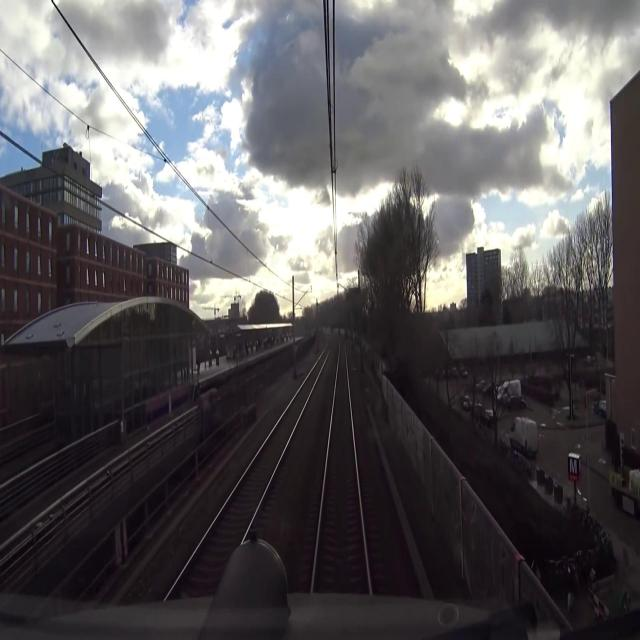rail-track: (170, 342, 330, 597), (314, 343, 367, 589)
